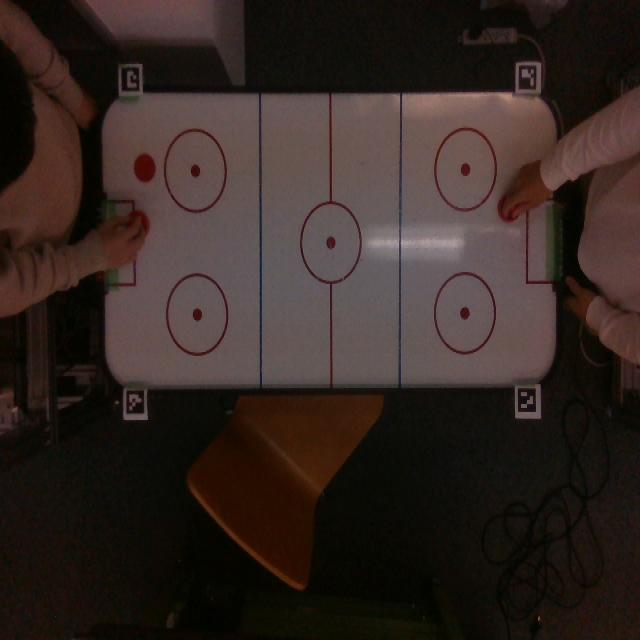puck: (134, 153, 156, 182)
